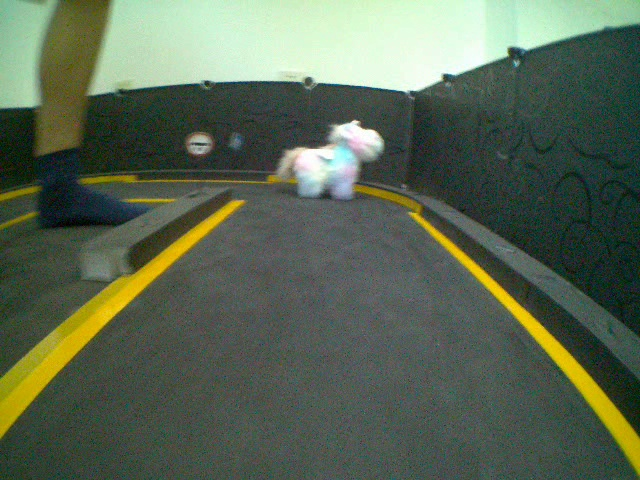unicorn: (271, 114, 386, 201)
